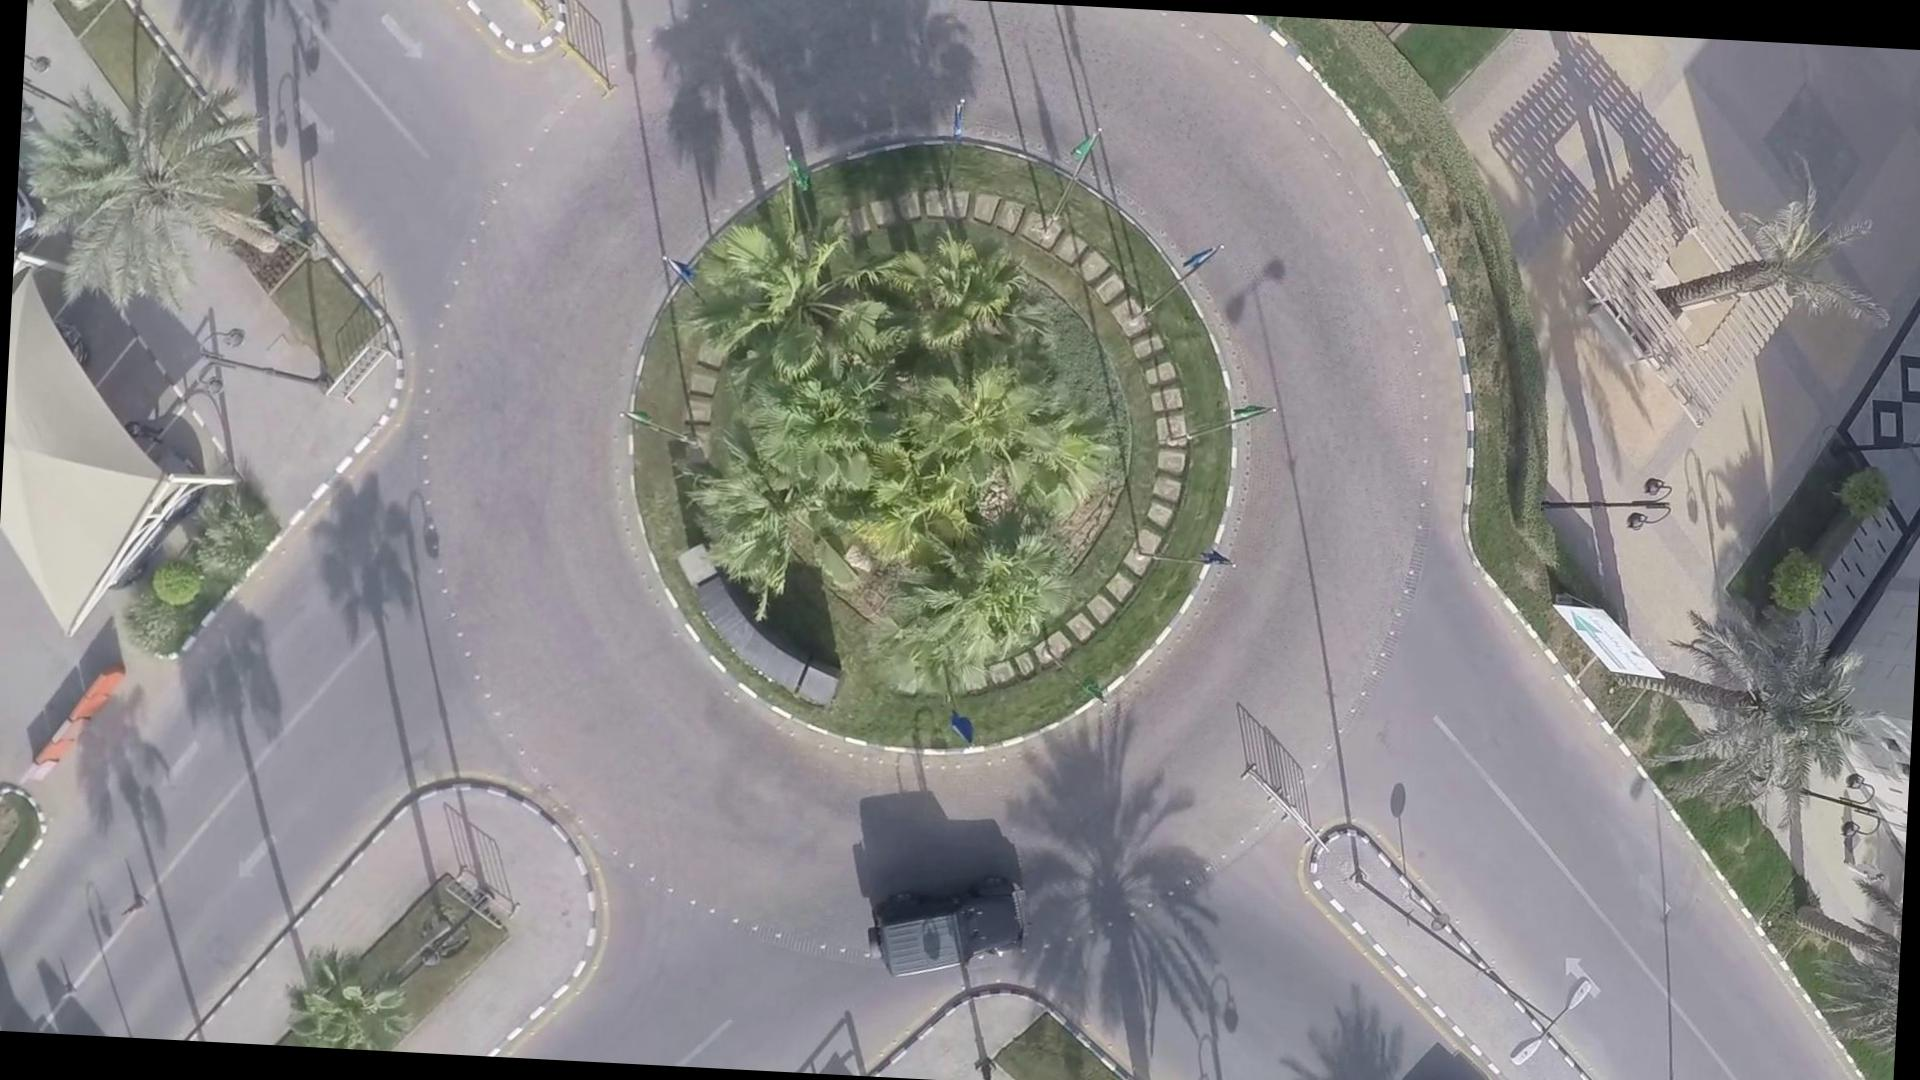vehicle: (867, 864, 1037, 986)
